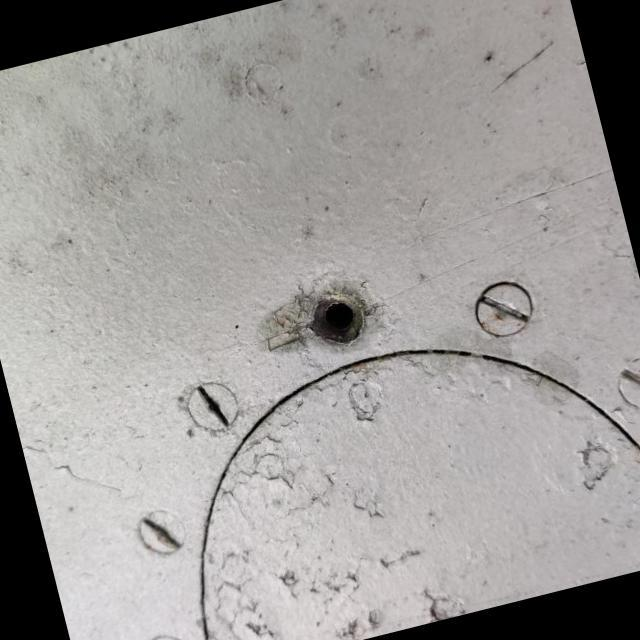Fastener Damage: (255, 240, 411, 398)
